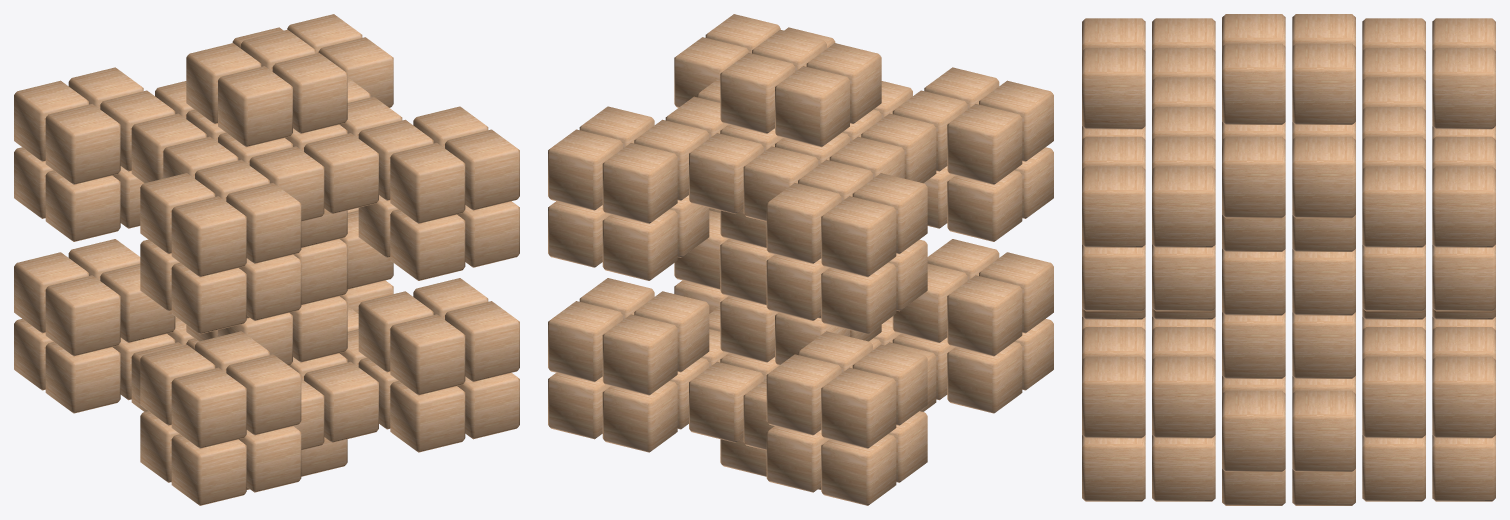
The model's file is level_92.fbx.
3 renders of one model, left to right at view 1: azimuth 30°, elevation 25°; view 2: azimuth 150°, elevation 25°; view 3: azimuth 270°, elevation 25°, orthographic. The views are drawn at different scales.
Parts seen in each view (by area): view 1: Cube.161, Cube.137, Cube.201, Cube.209, Cube.089, Cube.129, Cube.009, Cube.203, Cube.091, Cube.131, Cube.139, Cube.163 (+55 smaller); view 2: Cube.176, Cube.128, Cube.200, Cube.208, Cube.104, Cube.136, Cube.008, Cube.210, Cube.106, Cube.130, Cube.138, Cube.178 (+55 smaller); view 3: Cube.165, Cube.180, Cube.096, Cube.097, Cube.164, Cube.181, Cube.092, Cube.093, Cube.108, Cube.109, Cube.133, Cube.140 (+54 smaller).
Boxes of the visible parts, x1,y1,x2,y2 form: Cube.161: [390, 314, 465, 395]; Cube.137: [45, 104, 120, 184]; Cube.201: [171, 367, 246, 448]; Cube.209: [45, 275, 120, 356]; Cube.089: [390, 143, 465, 223]; Cube.129: [171, 196, 246, 277]; Cube.009: [218, 66, 292, 147]; Cube.203: [171, 434, 246, 505]; Cube.091: [390, 209, 465, 280]; Cube.131: [171, 262, 246, 334]; Cube.139: [45, 170, 120, 241]; Cube.163: [390, 381, 465, 452]; Cube.176: [602, 314, 677, 395]; Cube.128: [947, 104, 1022, 184]; Cube.200: [947, 275, 1022, 356]; Cube.208: [821, 367, 896, 448]; Cube.104: [602, 143, 677, 223]; Cube.136: [821, 196, 896, 277]; Cube.008: [775, 66, 849, 147]; Cube.210: [821, 434, 896, 505]; Cube.106: [602, 209, 677, 280]; Cube.130: [947, 170, 1022, 241]; Cube.138: [821, 262, 896, 334]; Cube.178: [602, 381, 677, 452]; Cube.165: [1082, 356, 1145, 438]; Cube.180: [1432, 356, 1495, 438]; Cube.096: [1292, 136, 1355, 218]; Cube.097: [1222, 136, 1285, 218]; Cube.164: [1152, 356, 1215, 438]; Cube.181: [1362, 356, 1425, 438]; Cube.092: [1152, 166, 1215, 247]; Cube.093: [1082, 166, 1145, 247]; Cube.108: [1432, 166, 1495, 247]; Cube.109: [1362, 166, 1425, 247]; Cube.133: [1082, 48, 1145, 129]; Cube.140: [1432, 48, 1495, 129].
Bounding box in the file's own units: 13 × 15.2 × 13.
